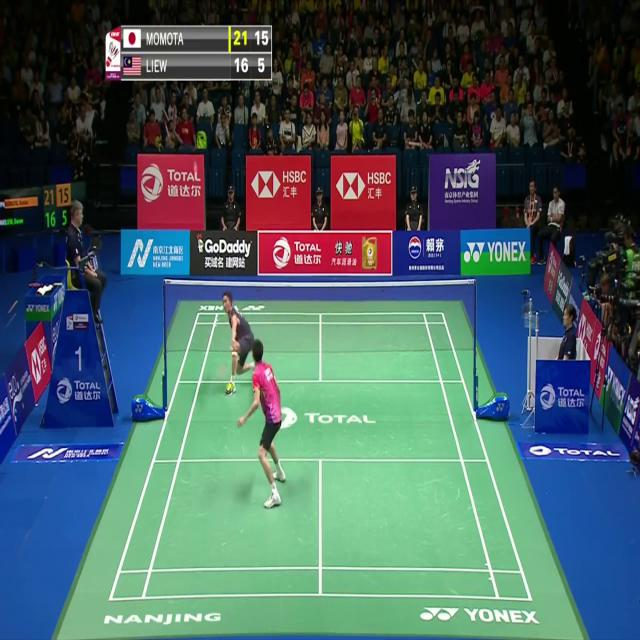Shuttlecock: (192, 163, 198, 175)
